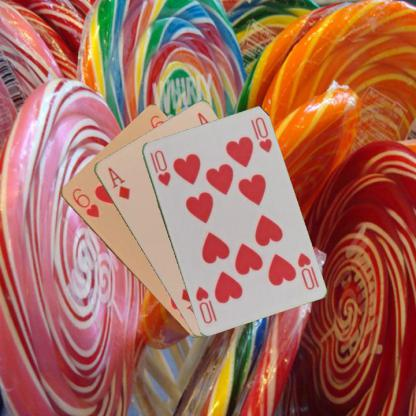10h: (147, 148, 172, 188), (294, 250, 316, 291)
6h: (68, 185, 100, 219)
Ad: (105, 164, 131, 201)
